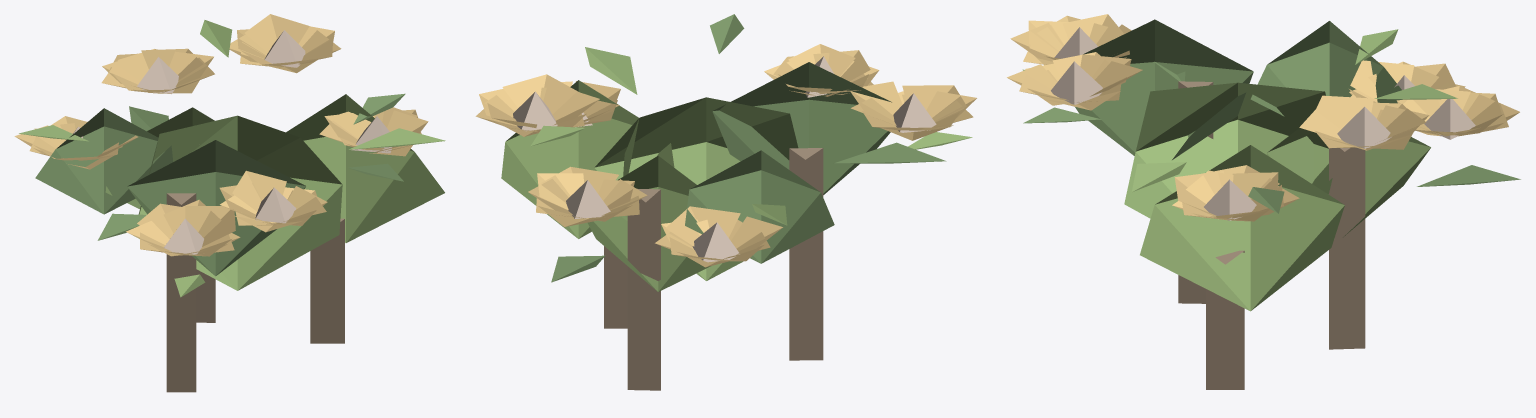
Rendered from hua.ju__spring.glb.
3 renders of one model, left to right at view 1: azimuth 30°, elevation 25°; view 2: azimuth 150°, elevation 25°; view 3: azimuth 270°, elevation 25°, orthographic. The views are drawn at different scales.
Parts seen in each view (by area): view 1: hua.ju__spring; view 2: hua.ju__spring; view 3: hua.ju__spring.
Part boxes in pixels (<box>): hua.ju__spring: <box>14,14,445,392</box>; hua.ju__spring: <box>475,14,976,390</box>; hua.ju__spring: <box>1007,14,1520,389</box>.
Size of the model in its own units: 1.24 by 0.8611 by 1.35.
